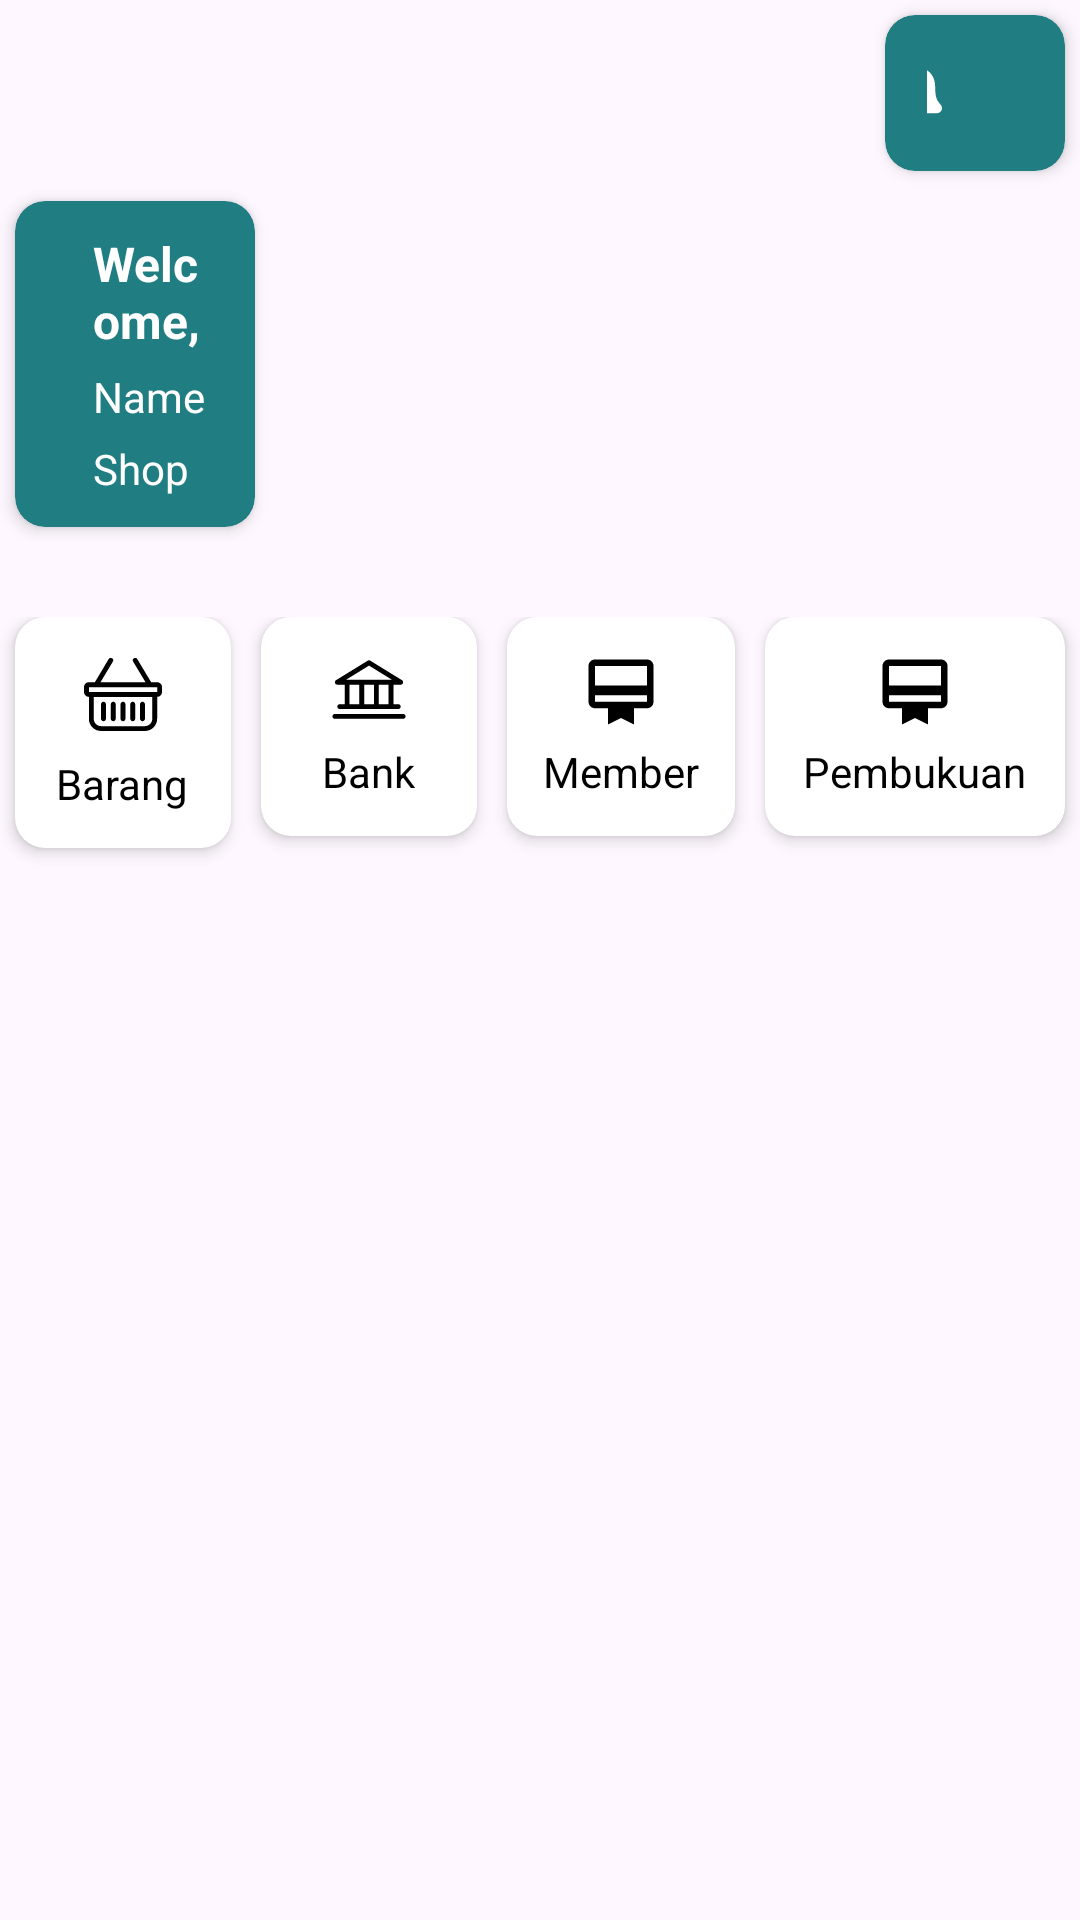

Screen size 1080 × 1920. Icon name, then its box in pixels as (x1, y1, x2, y2):
bi basket: (84, 658, 162, 731)
